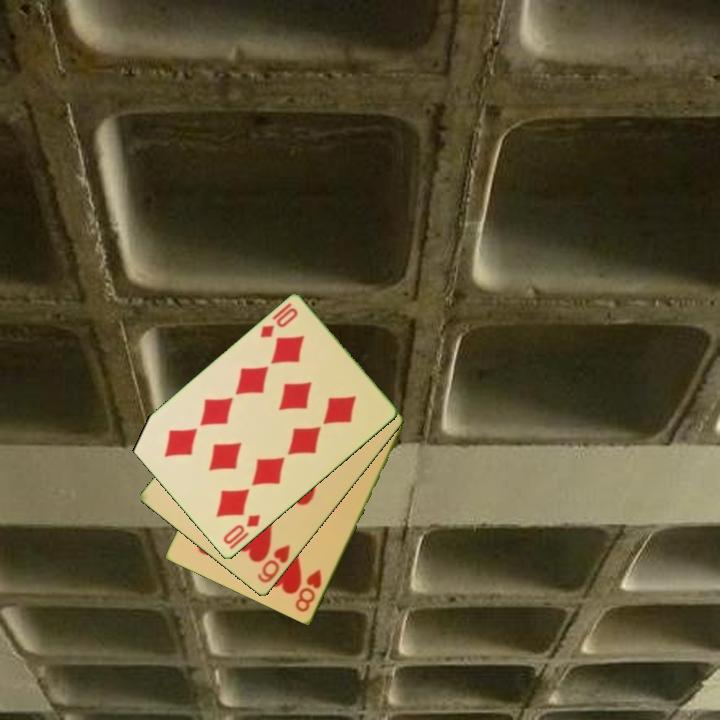10d: (219, 511, 263, 553), (256, 305, 301, 341)
6h: (254, 541, 293, 586)
8h: (292, 566, 325, 616)
